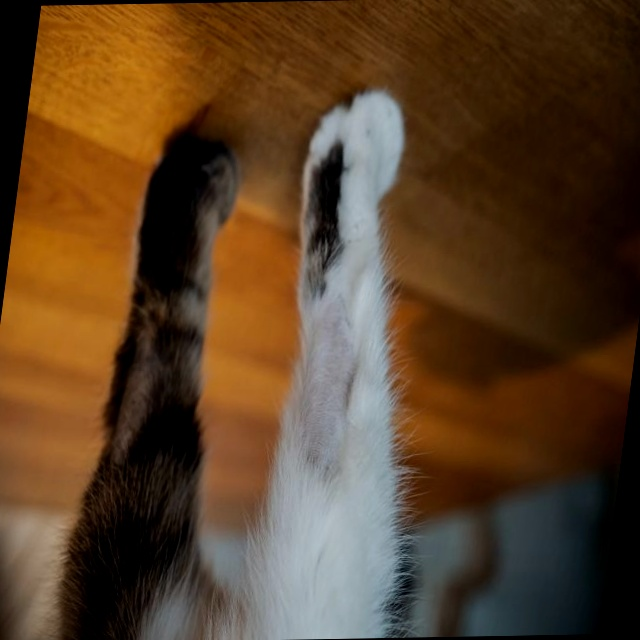hairloss: (276, 281, 373, 490)
